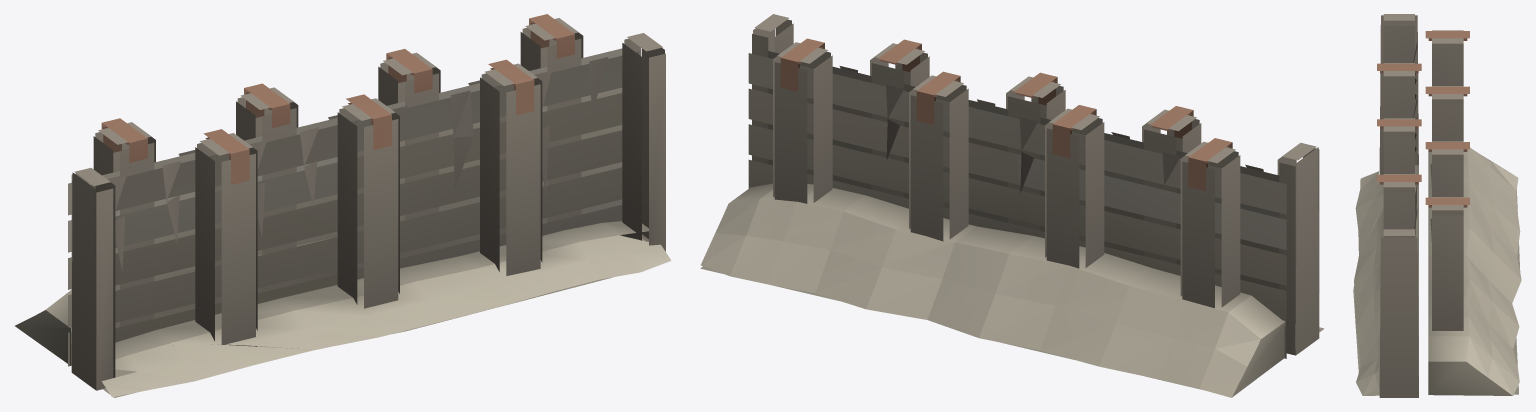
Rendered from groyne.lod.glb.
3 views of the same model, side by side, from view 1: azimuth 30°, elevation 25°; view 2: azimuth 150°, elevation 25°; view 3: azimuth 270°, elevation 25° (orthographic). The views are drawn at different scales.
Parts seen in each view (by area): view 1: groyne; view 2: groyne; view 3: groyne.
Part boxes in pixels (x1,y1,x2,y2): groyne: (15, 14, 671, 397); groyne: (700, 14, 1324, 397); groyne: (1353, 14, 1521, 397).
Bounding box in the file's own units: 4 × 1.42 × 1.28.
